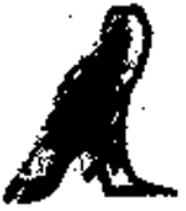Owl: (0, 3, 167, 206)
